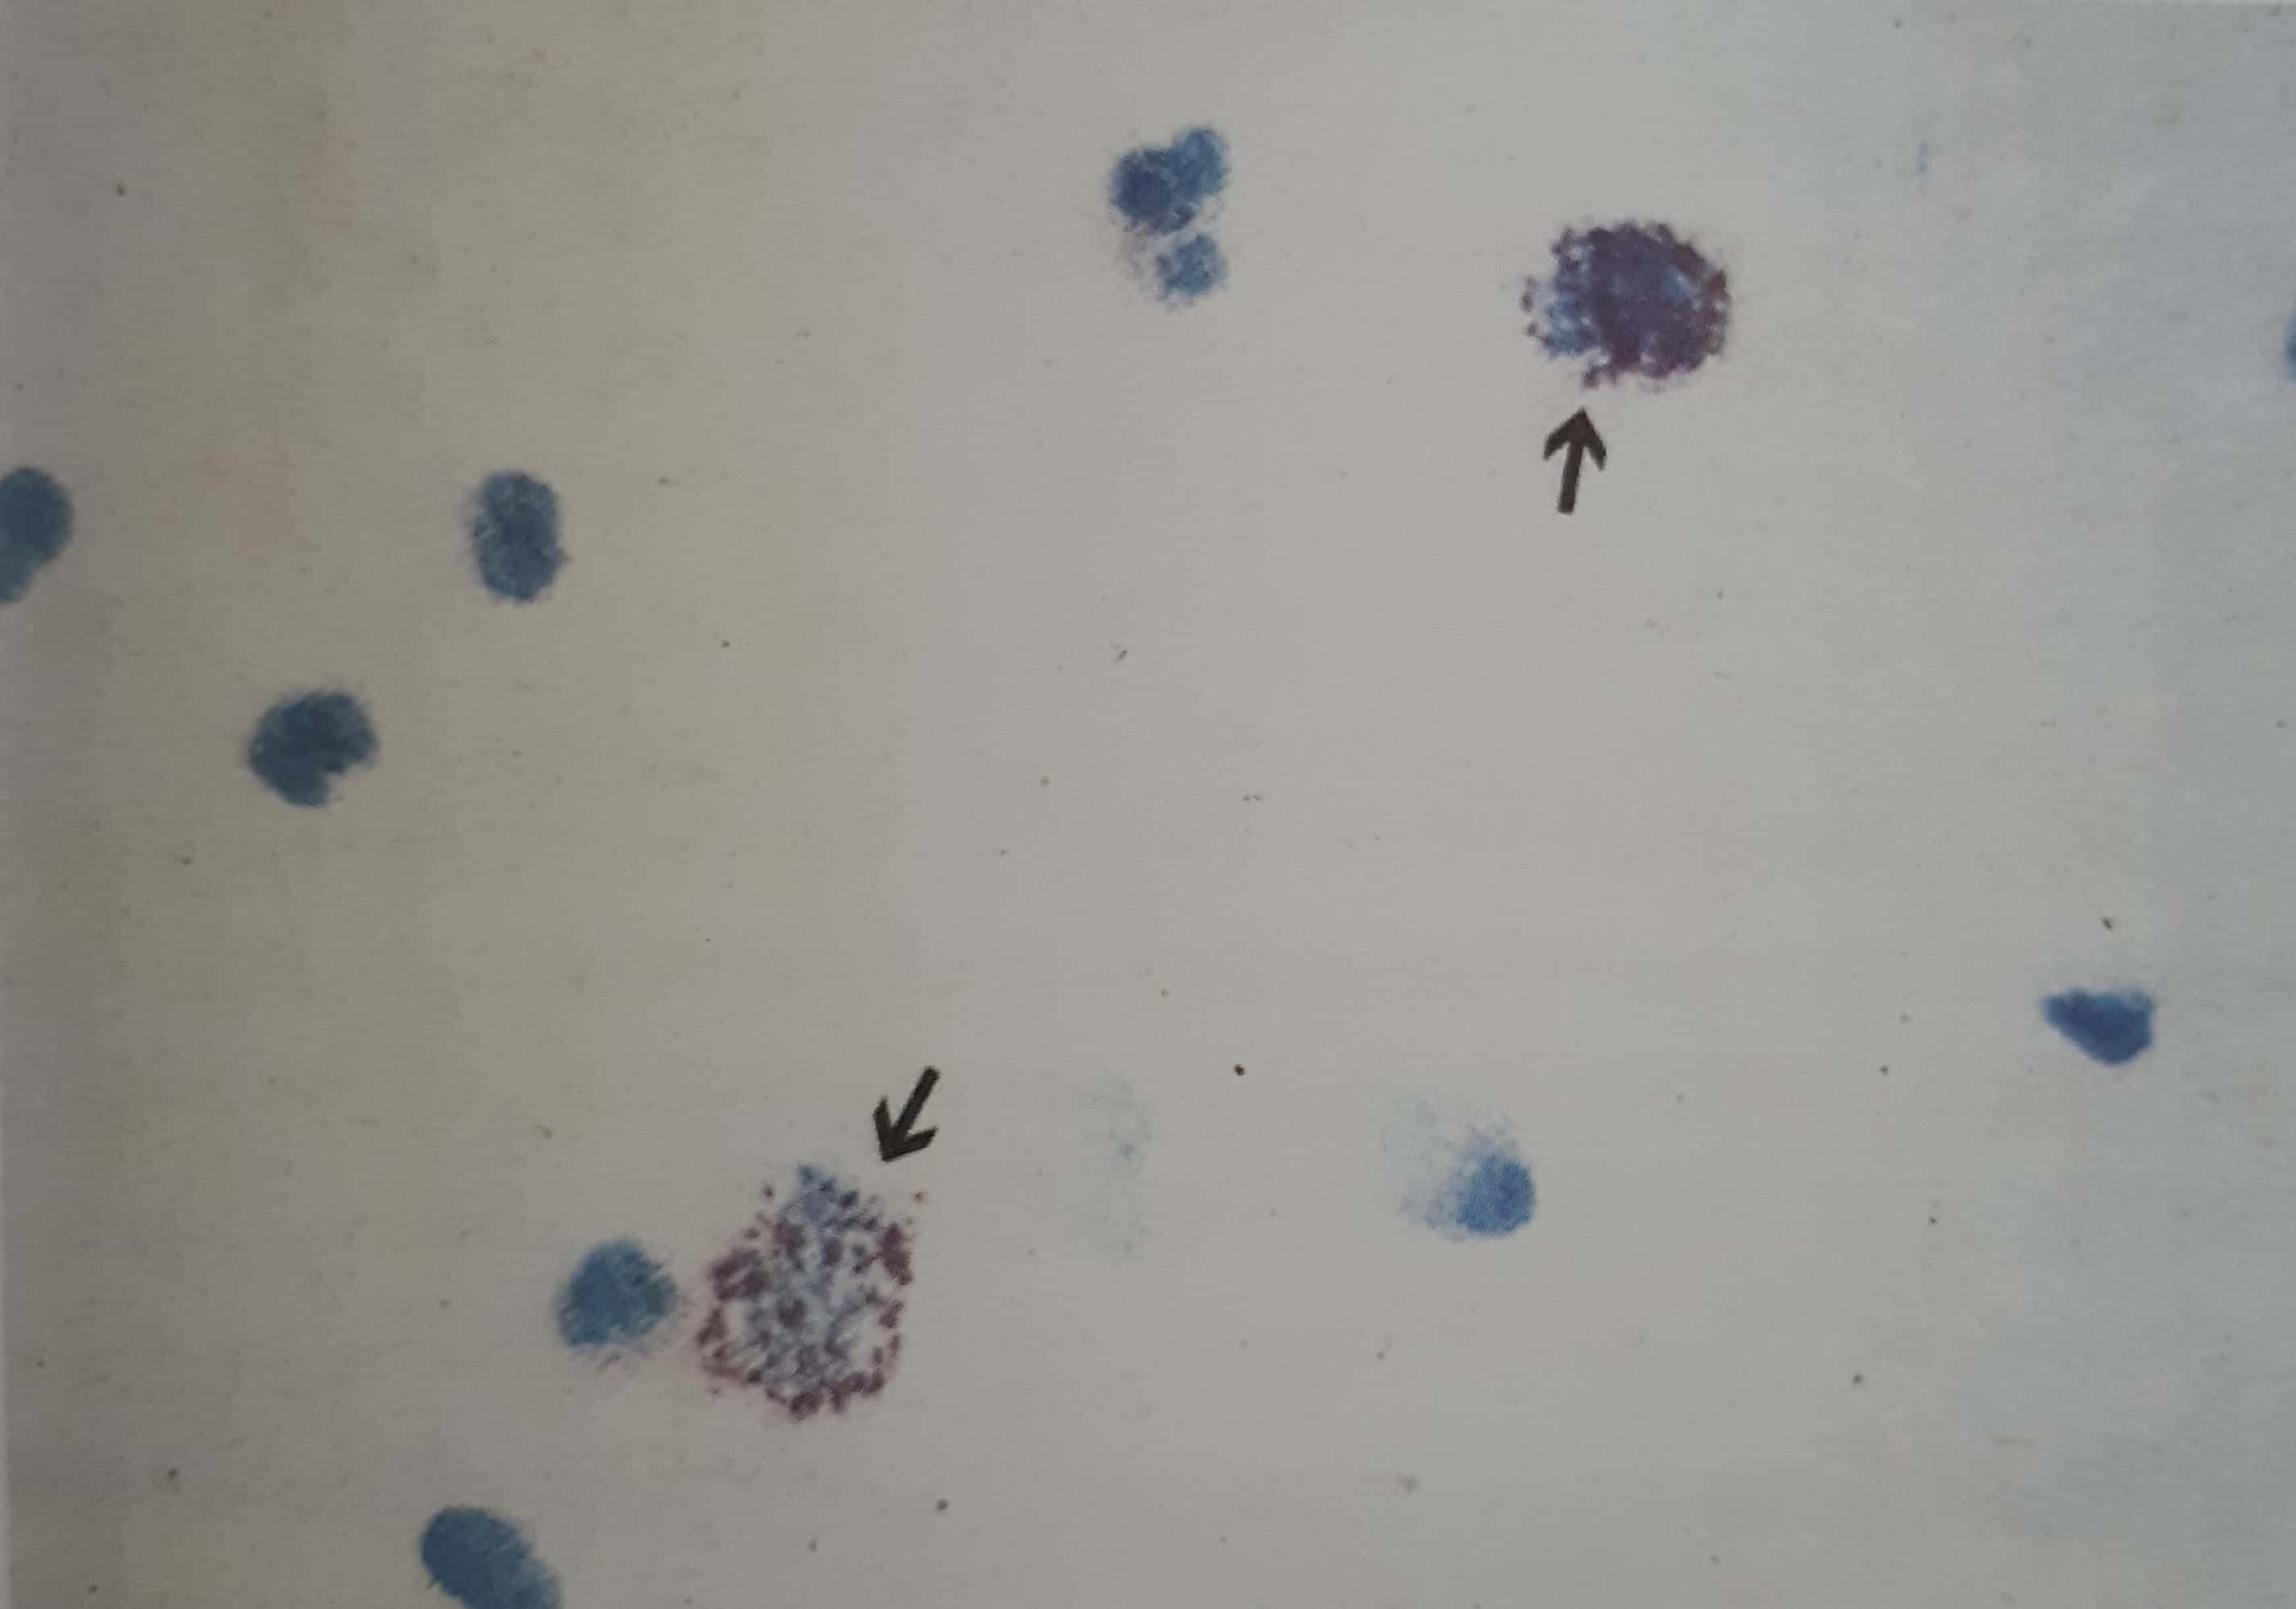WBC: (691, 1157, 937, 1443), (1509, 195, 1757, 403)
